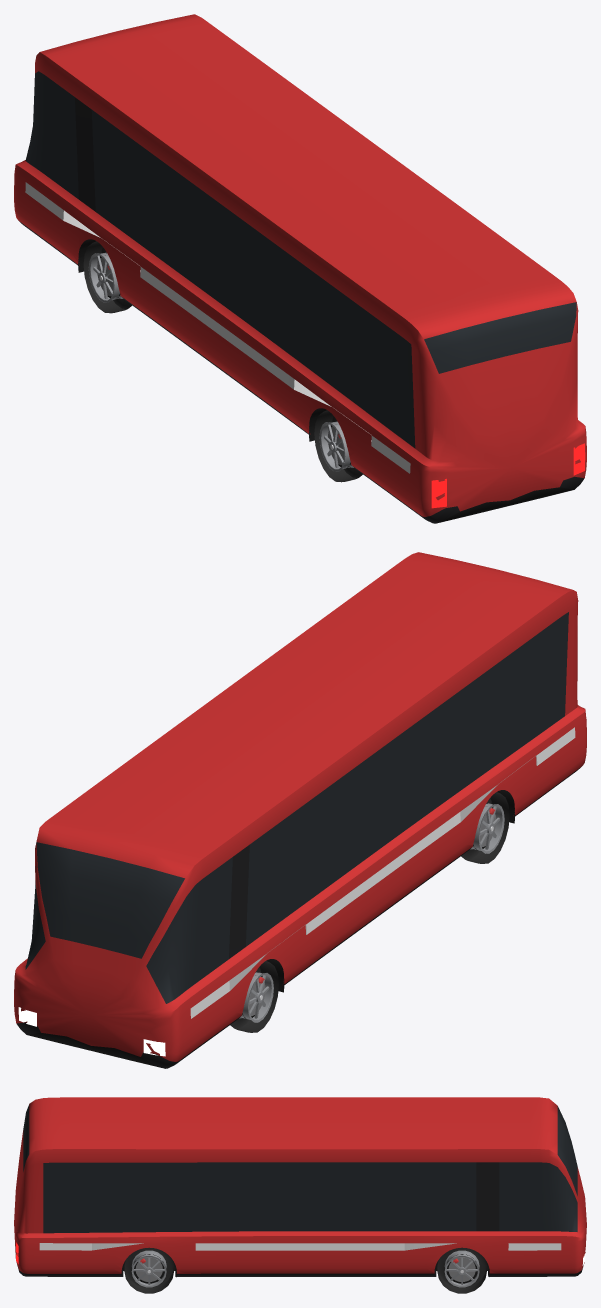
The model's file is t_bus.glb.
The picture shows the model from 3 angles, top to bottom: view 1: azimuth 30°, elevation 25°; view 2: azimuth 150°, elevation 25°; view 3: azimuth 270°, elevation 25°; orthographic projection. The views are drawn at different scales.
Parts seen in each view (by area): view 1: Body, Wheel_FL, Wheel_RL; view 2: Body, Wheel_FL, Wheel_RL; view 3: Body, Wheel_FR, Wheel_RR.
Part boxes in pixels (<box>): Body: <box>14,14,586,523</box>; Wheel_FL: <box>83,241,131,313</box>; Wheel_RL: <box>314,410,362,482</box>; Body: <box>14,552,586,1068</box>; Wheel_FL: <box>230,961,278,1032</box>; Wheel_RL: <box>461,792,509,863</box>; Body: <box>14,1097,586,1277</box>; Wheel_FR: <box>437,1247,487,1293</box>; Wheel_RR: <box>124,1247,174,1293</box>.
Size of the model in its own units: 2.51 by 3.08 by 10.99.
